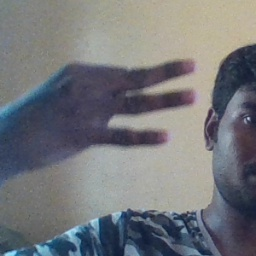K: (12, 56, 201, 162)
